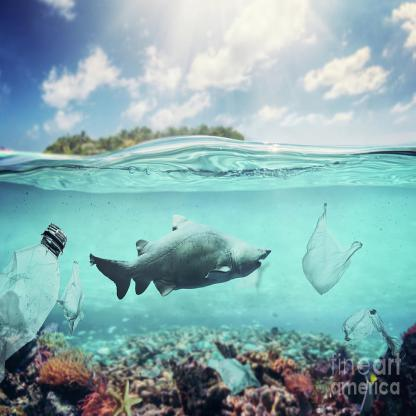bottle: (0, 223, 66, 350)
plastic-bag: (301, 202, 361, 295), (60, 262, 86, 332)
waste: (344, 308, 396, 350)
